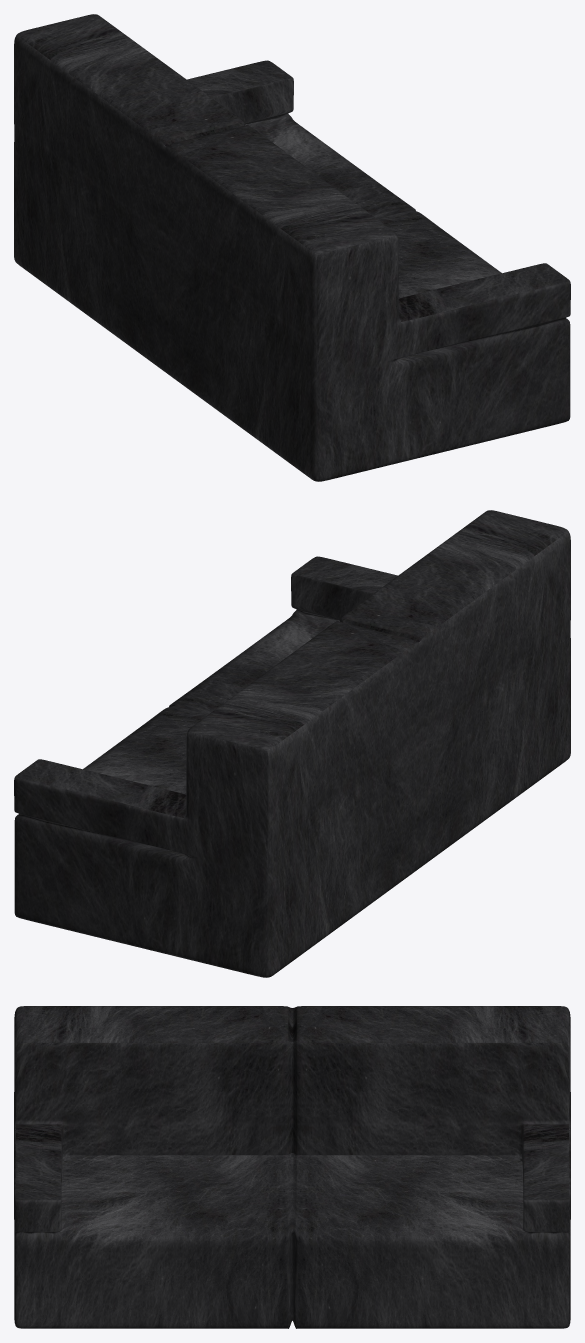
Rendered from sofa2.dae.
3 renders of one model, top to bottom at view 1: azimuth 30°, elevation 25°; view 2: azimuth 150°, elevation 25°; view 3: azimuth 270°, elevation 25°, orthographic. The views are drawn at different scales.
Parts seen in each view (by area): view 1: Cube; view 2: Cube; view 3: Cube.
Part boxes in pixels (<box>): Cube: <box>14,14,570,481</box>; Cube: <box>14,510,570,977</box>; Cube: <box>14,1006,570,1328</box>.
Bounding box in the file's own units: 78.86 × 161 × 67.91.
Materials: 1 (1 with a texture image).
